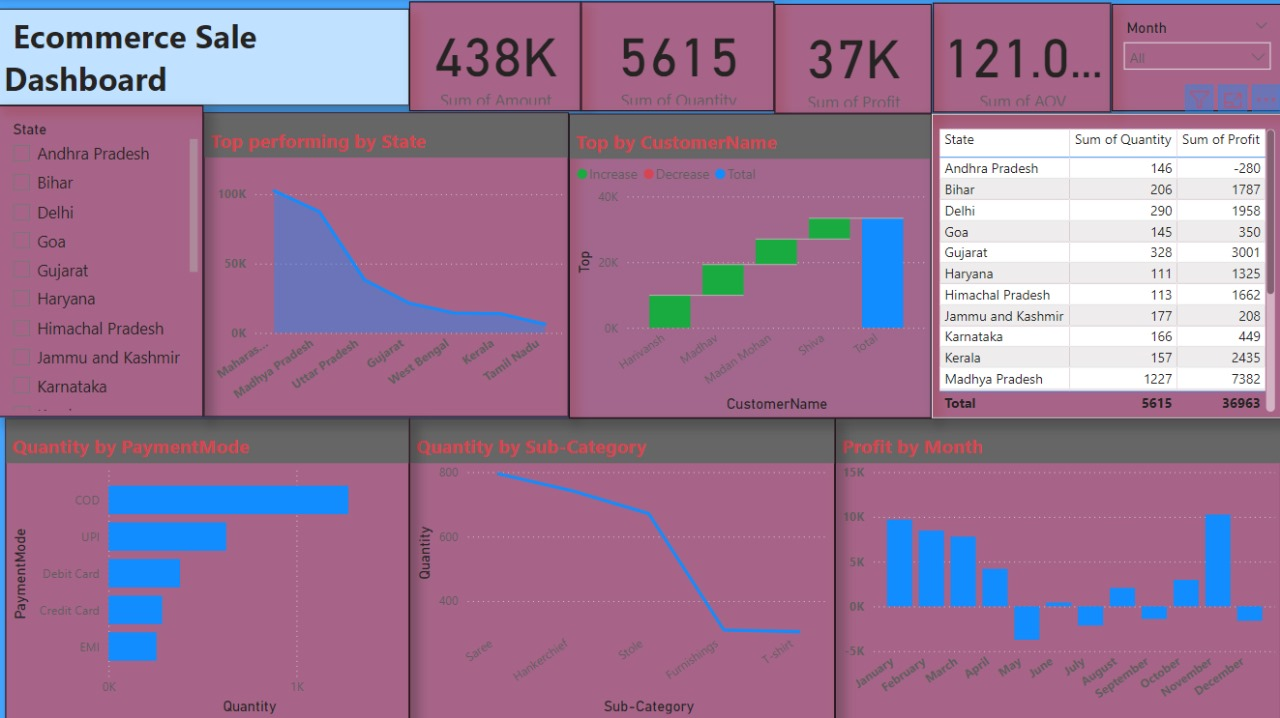

What the dashboard file says about the page in this screenshot:
{"tool":"powerbi","page":{"name":"Page 1","canvas":[1280,720],"ordinal":0},"visuals":[{"type":"textbox","box":[0,9.7,410.2,96.5],"z":1000},{"type":"clusteredColumnChart","fields":{"Category":["Orders.Order Date.Variation.Date Hierarchy.Month"],"Y":["Details.Profit"]},"box":[834.9,418.6,445.2,301.6],"z":2000},{"type":"lineChart","fields":{"Category":["Details.Sub-Category"],"Y":["Details.Quantity"]},"box":[410.2,418.6,424.7,301.6],"z":3000},{"type":"barChart","fields":{"Category":["Details.PaymentMode"],"Y":["Details.Quantity"]},"box":[7.2,418.6,403,301.6],"z":4000},{"type":"card","fields":{"Values":["Details.Amount"]},"box":[410.2,2.4,171.3,109.8],"z":5000},{"type":"card","fields":{"Values":["Details.Quantity"]},"box":[581.5,2.4,193,109.8],"z":6000},{"type":"card","fields":{"Values":["Details.Profit"]},"box":[774.5,4.8,156.8,109.8],"z":7000},{"type":"card","fields":{"Values":["Details.AOV"]},"box":[932.6,3.6,177.3,109.8],"z":8000},{"type":"stackedAreaChart","fields":{"Category":["Orders.State"],"Y":["Details.Amount"]},"box":[205.1,113.4,364.3,304],"z":9000},{"type":"waterfallChart","fields":{"Category":["Orders.CustomerName"],"Y":["Details.Amount"]},"box":[569.4,114.6,361.9,304],"z":10000},{"type":"slicer","fields":{"Values":["Orders.Order Date.Variation.Date Hierarchy.Month"]},"box":[1111.1,4.8,168.9,107.4],"z":11000},{"type":"tableEx","fields":{"Values":["Orders.State","Details.Quantity","Details.Profit"]},"box":[931.4,114.6,348.7,304],"z":12000},{"type":"slicer","fields":{"Values":["Orders.State"]},"box":[0,106.2,205.1,311.3],"z":12001}]}

Visuals, with their boxes in screenshot pixels (x1, y1, x2, y2), scaled from the page's 1280x720 canvas onto the 1280x718 screenshot:
textbox: pyautogui.locateOnScreen(0, 10, 410, 106)
clusteredColumnChart - Orders.Order Date.Variation.Date Hierarchy.Month x Details.Profit: pyautogui.locateOnScreen(835, 417, 1279, 717)
lineChart - Details.Sub-Category x Details.Quantity: pyautogui.locateOnScreen(410, 417, 835, 717)
barChart - Details.PaymentMode x Details.Quantity: pyautogui.locateOnScreen(7, 417, 410, 717)
card - Details.Amount: pyautogui.locateOnScreen(410, 2, 582, 112)
card - Details.Quantity: pyautogui.locateOnScreen(582, 2, 774, 112)
card - Details.Profit: pyautogui.locateOnScreen(774, 5, 931, 114)
card - Details.AOV: pyautogui.locateOnScreen(933, 4, 1110, 113)
stackedAreaChart - Orders.State x Details.Amount: pyautogui.locateOnScreen(205, 113, 569, 416)
waterfallChart - Orders.CustomerName x Details.Amount: pyautogui.locateOnScreen(569, 114, 931, 417)
slicer - Orders.Order Date.Variation.Date Hierarchy.Month: pyautogui.locateOnScreen(1111, 5, 1279, 112)
tableEx - Orders.State x Details.Quantity: pyautogui.locateOnScreen(931, 114, 1279, 417)
slicer - Orders.State: pyautogui.locateOnScreen(0, 106, 205, 416)
